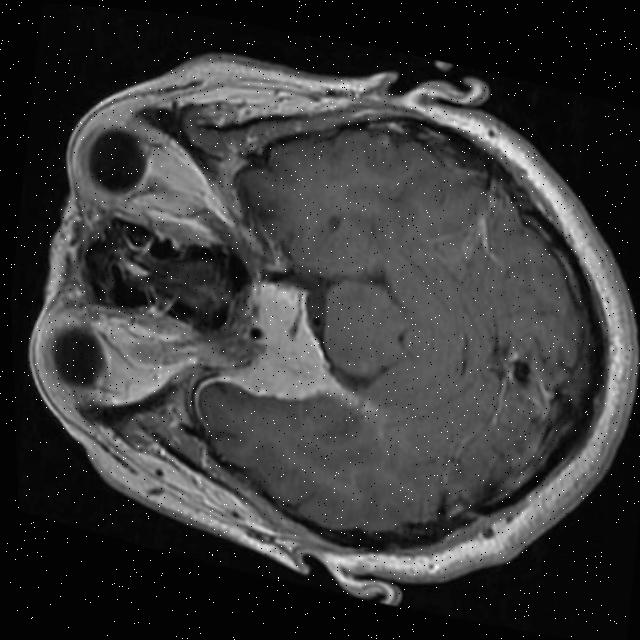Meningioma: (222, 271, 342, 412)
